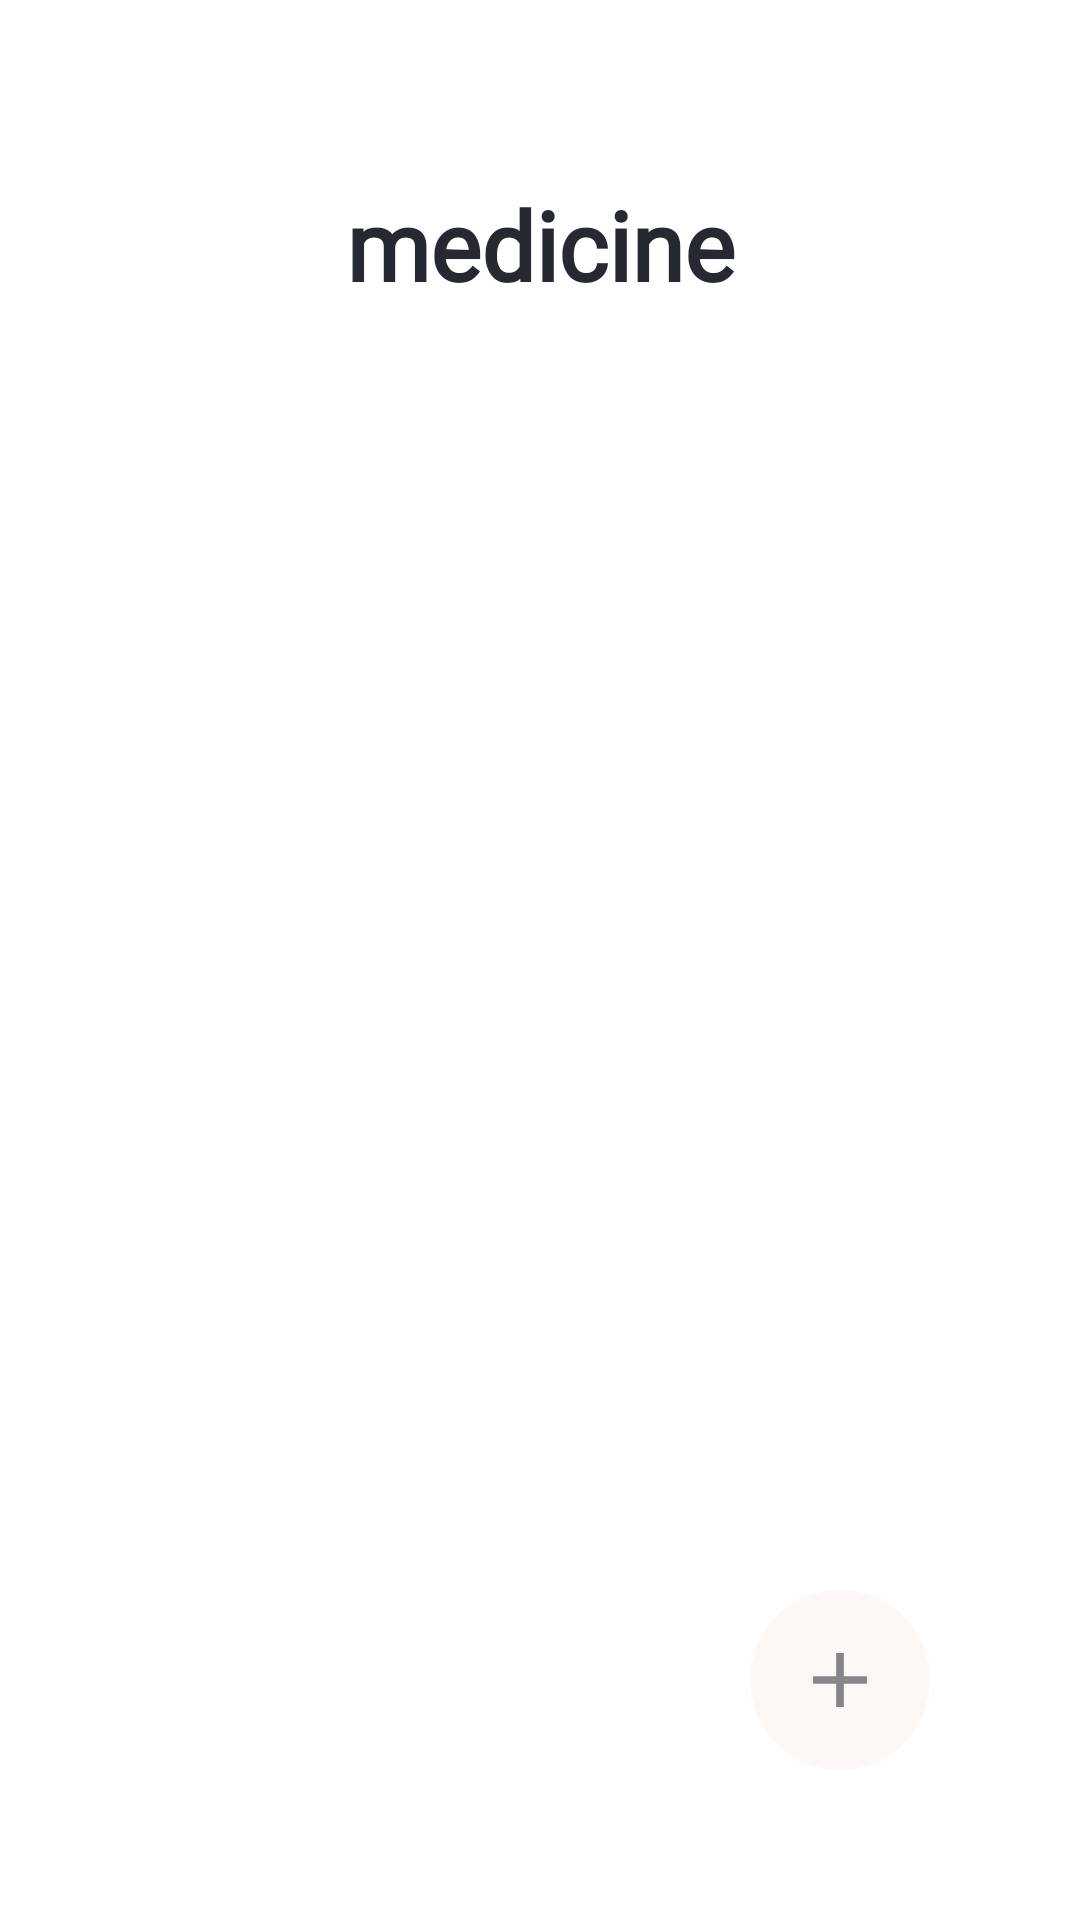

Point at icon controls on the screen. Image size 1080 x 1920, points as [x,y].
plus: [840,1680]
